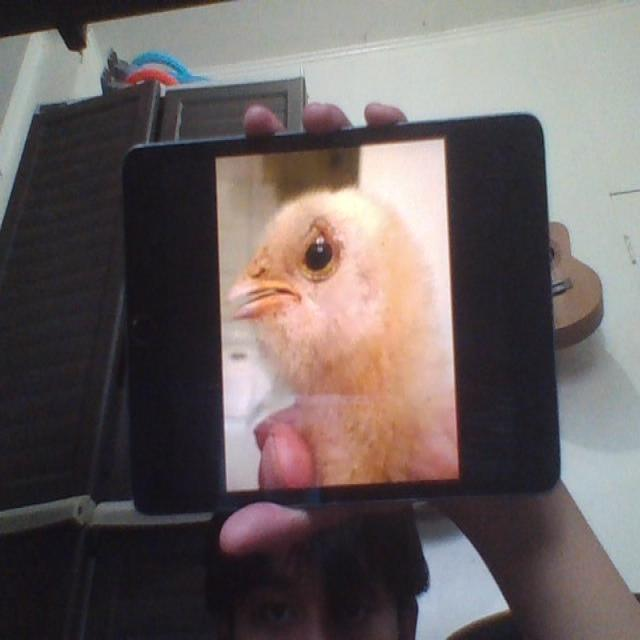Sick: (235, 187, 461, 489)
